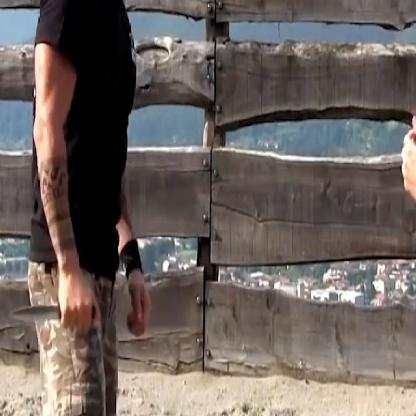knife: (0, 291, 98, 340)
